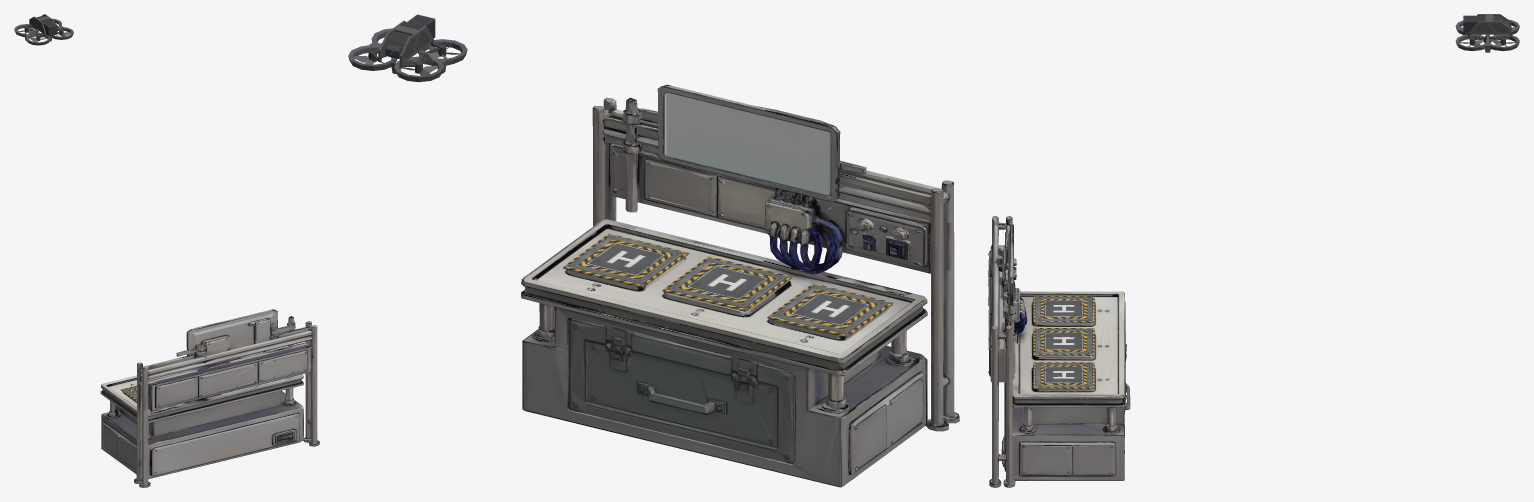
Rendered from P_DroneConsole_001.obj.
The picture shows the model from 3 angles, left to right: view 1: azimuth 30°, elevation 25°; view 2: azimuth 150°, elevation 25°; view 3: azimuth 270°, elevation 25°; orthographic projection. The views are drawn at different scales.
Bounding box in the file's own units: 2.05 × 3.39 × 3.95.
Materials: 7 (7 with a texture image).
